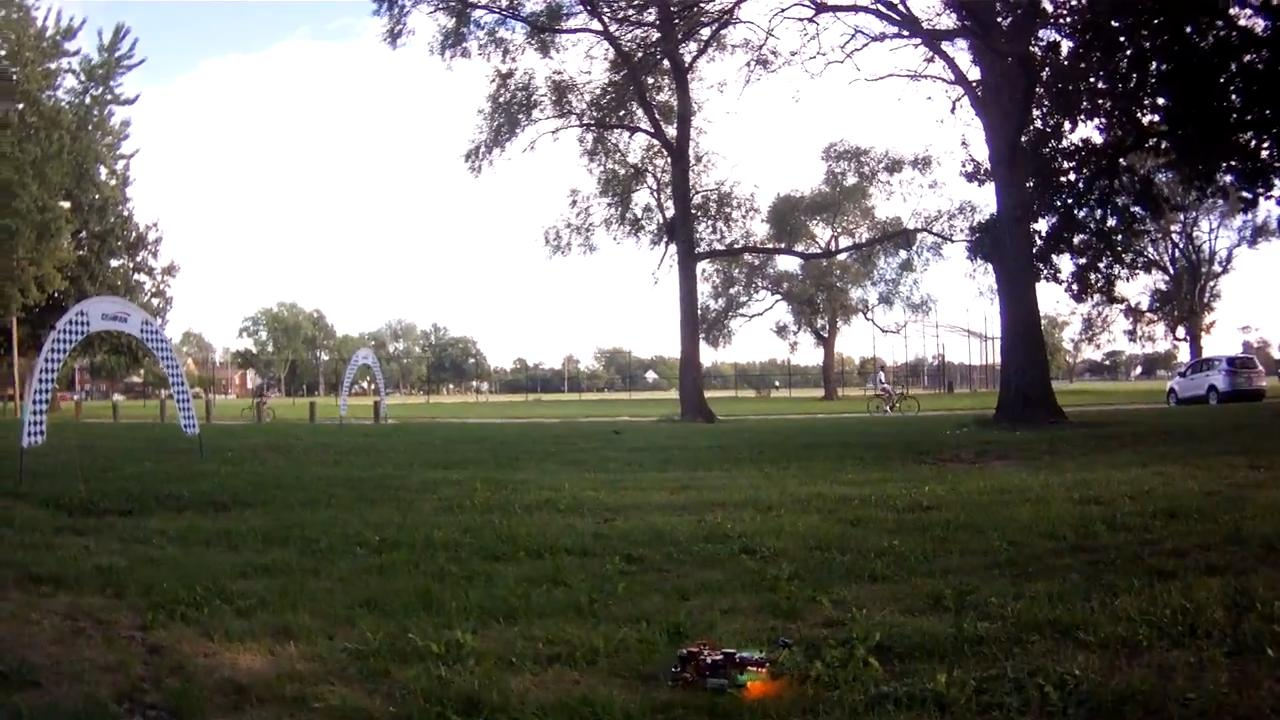gate: (21, 294, 202, 449)
